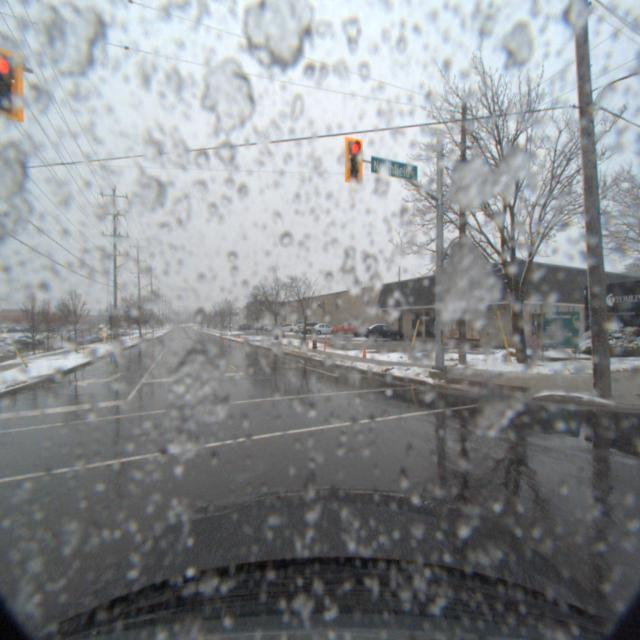Car: (360, 322, 404, 342), (327, 320, 365, 338), (308, 322, 339, 336)
